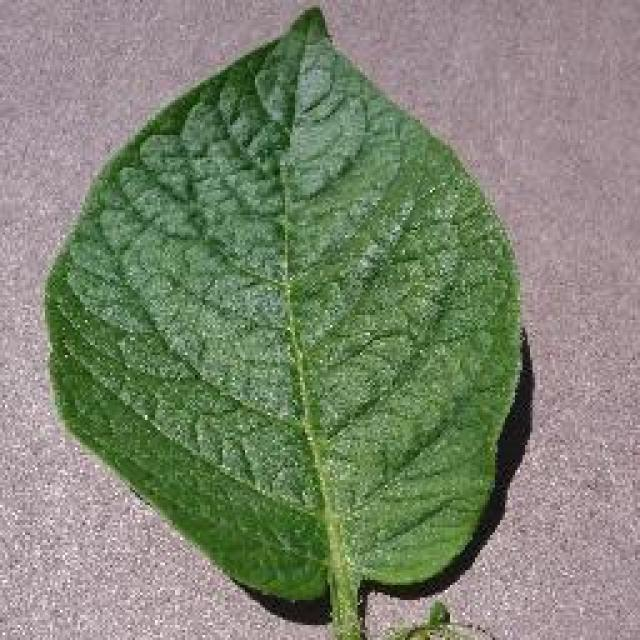Potato: (40, 2, 525, 638)
